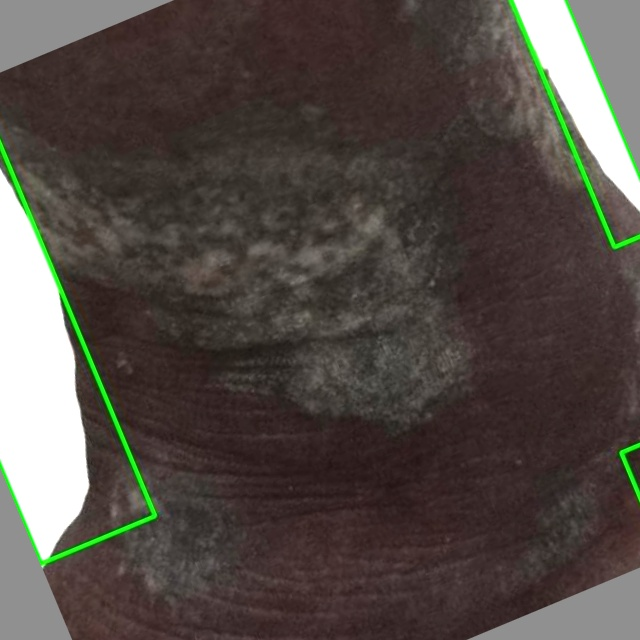Eczema: (511, 0, 639, 247)
